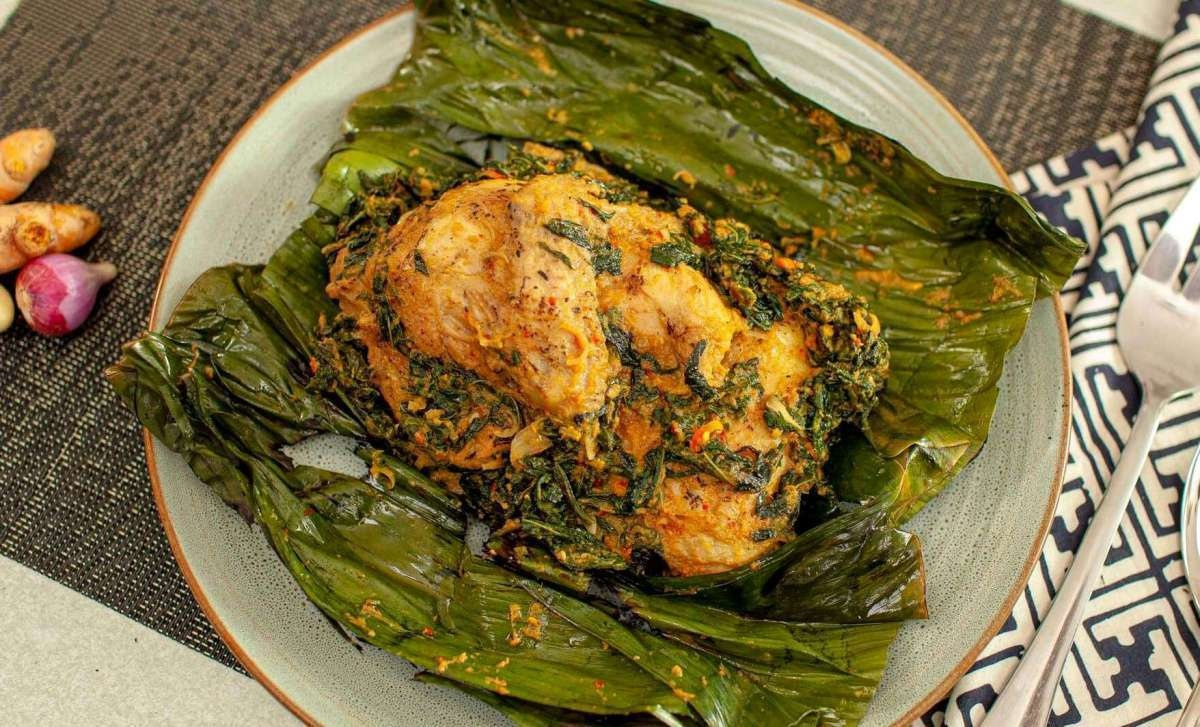ayam_betutu: (323, 144, 889, 576)
